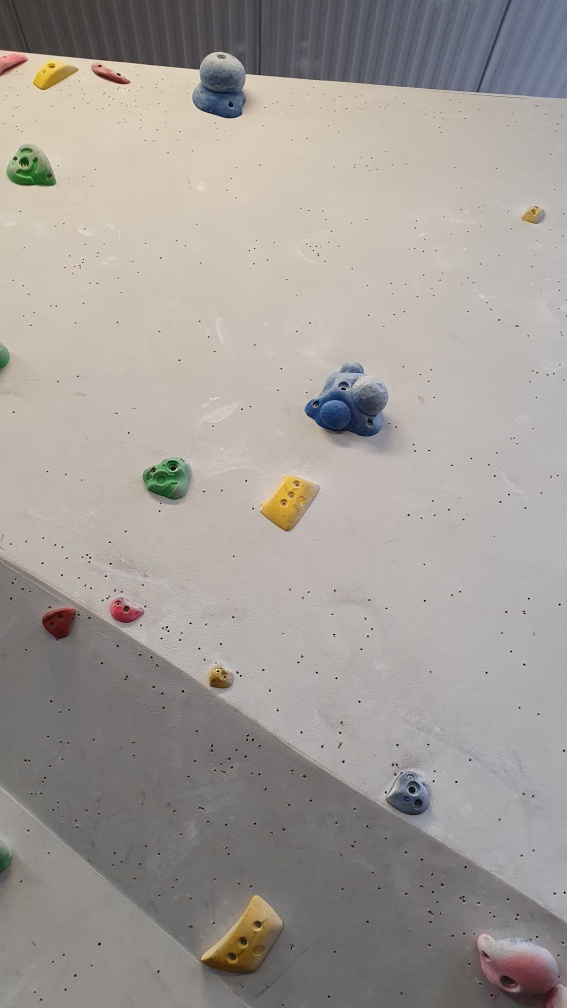Crimp: (197, 893, 287, 975), (261, 467, 320, 534), (38, 602, 84, 643), (30, 57, 84, 91), (111, 591, 151, 627), (91, 60, 136, 90), (1, 49, 30, 79), (518, 201, 548, 226)
Jug: (473, 925, 565, 1008), (5, 139, 63, 196)
Pinch: (384, 755, 435, 817), (206, 661, 236, 693)
Sloper: (305, 359, 393, 439), (198, 47, 253, 94)
